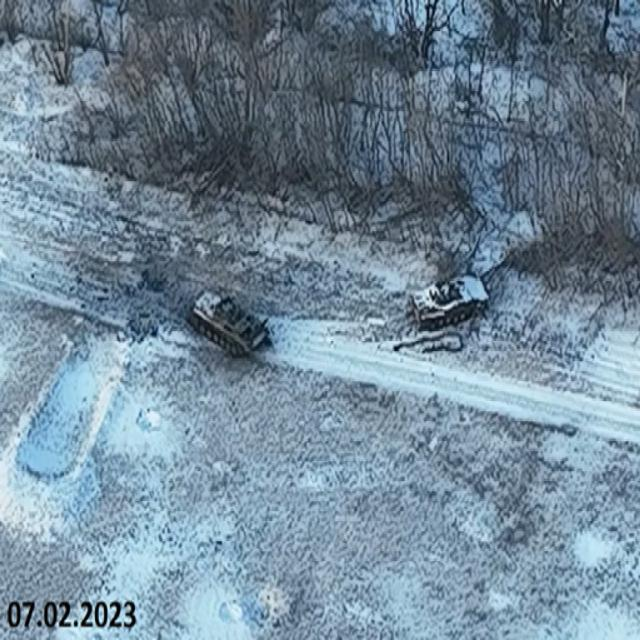APC-IFV: (188, 280, 274, 360), (404, 267, 488, 329)
